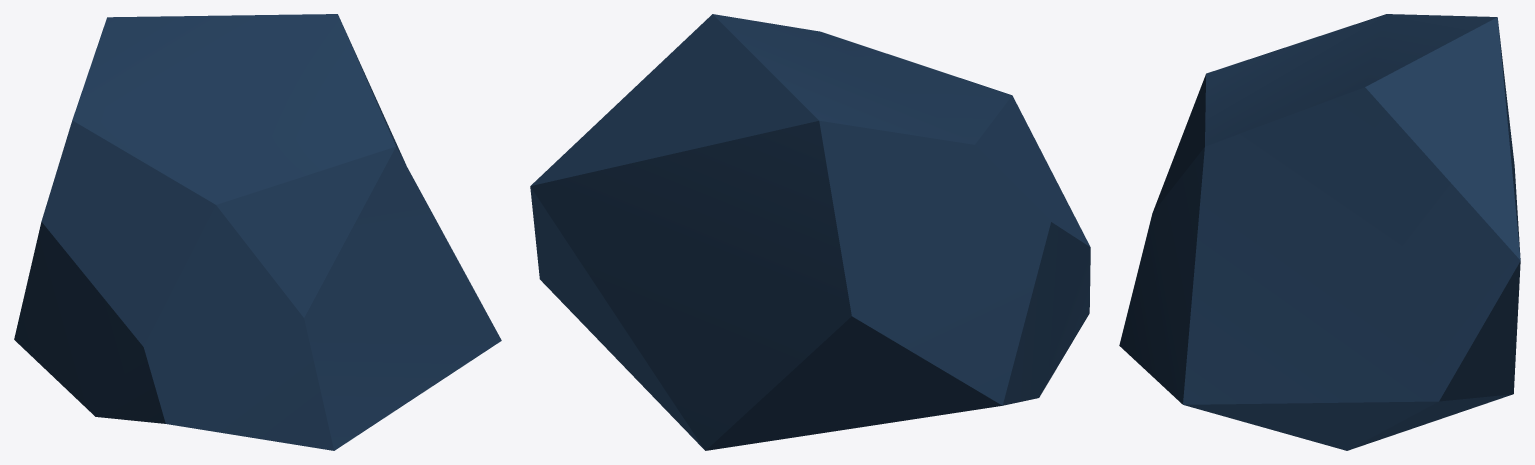
Rendered from 39091_stone_02.fbx.
3 views of the same model, side by side, from view 1: azimuth 30°, elevation 25°; view 2: azimuth 150°, elevation 25°; view 3: azimuth 270°, elevation 25° (orthographic). The views are drawn at different scales.
Visible parts, largest first — view 1: 39091_stone_02; view 2: 39091_stone_02; view 3: 39091_stone_02.
Part boxes in pixels (left/top/right/bottom): 39091_stone_02: left=14, top=14, right=501, bottom=450; 39091_stone_02: left=530, top=14, right=1090, bottom=450; 39091_stone_02: left=1119, top=14, right=1520, bottom=450.
Bounding box in the file's own units: 3.54 × 3.05 × 2.83.
